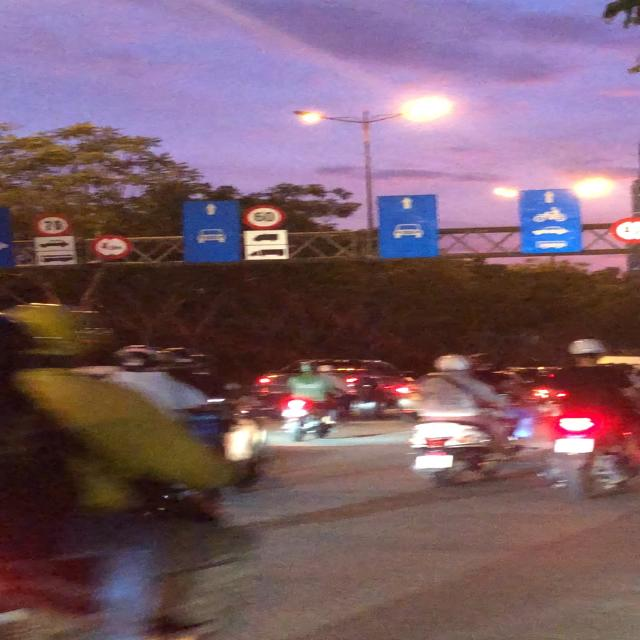Bien bao toc do toi da cho phep: (238, 203, 299, 227), (32, 215, 80, 238)
